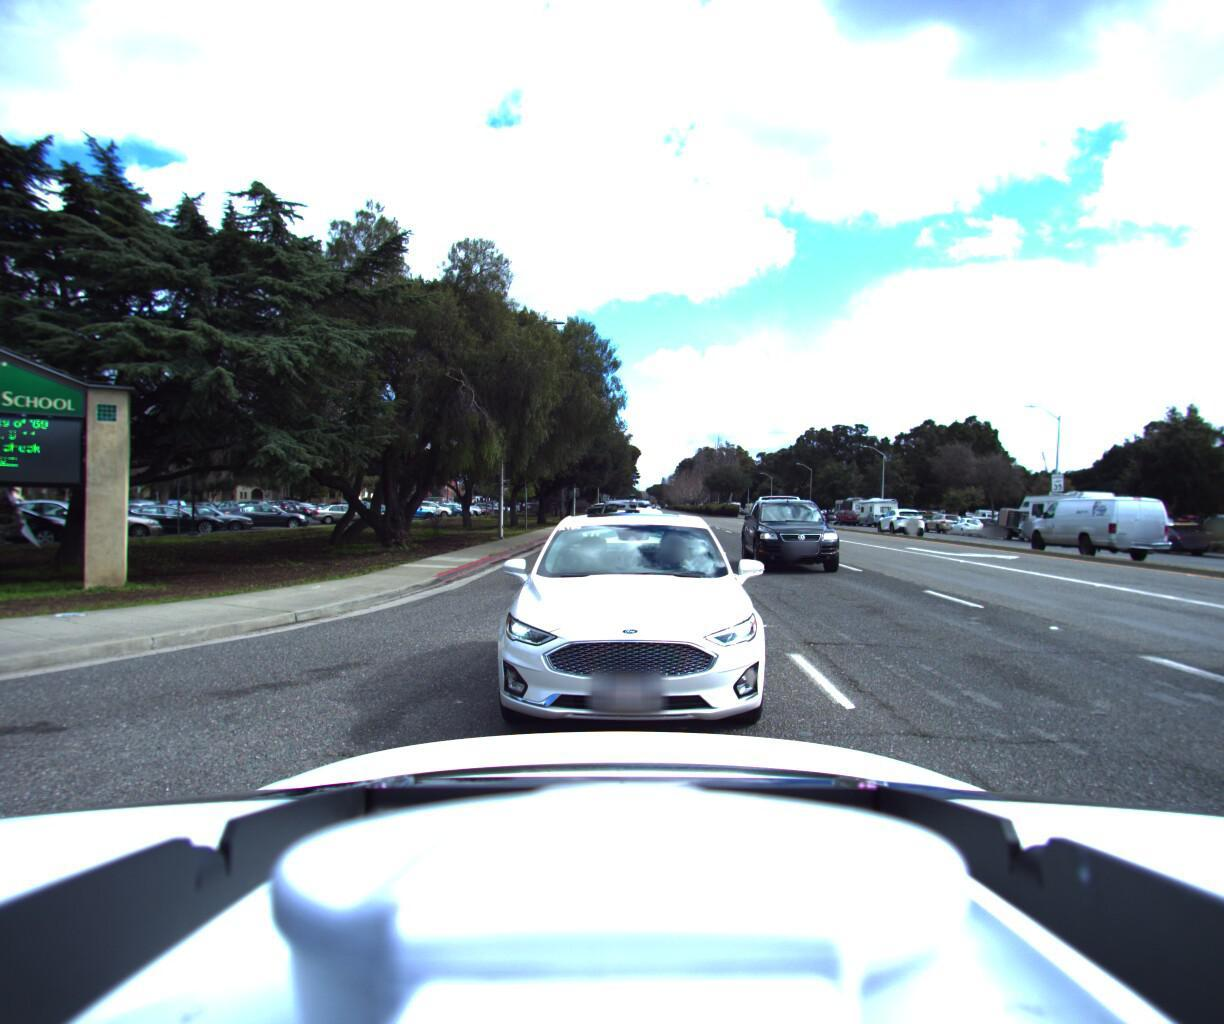car: (475, 500, 781, 754), (570, 492, 673, 591), (1009, 489, 1150, 560), (738, 494, 848, 581), (618, 497, 691, 567), (1118, 527, 1215, 562), (587, 496, 644, 549), (867, 506, 923, 537), (942, 518, 987, 538), (921, 513, 963, 534)
other_vehicle: (1012, 487, 1131, 553), (979, 505, 1044, 546)
